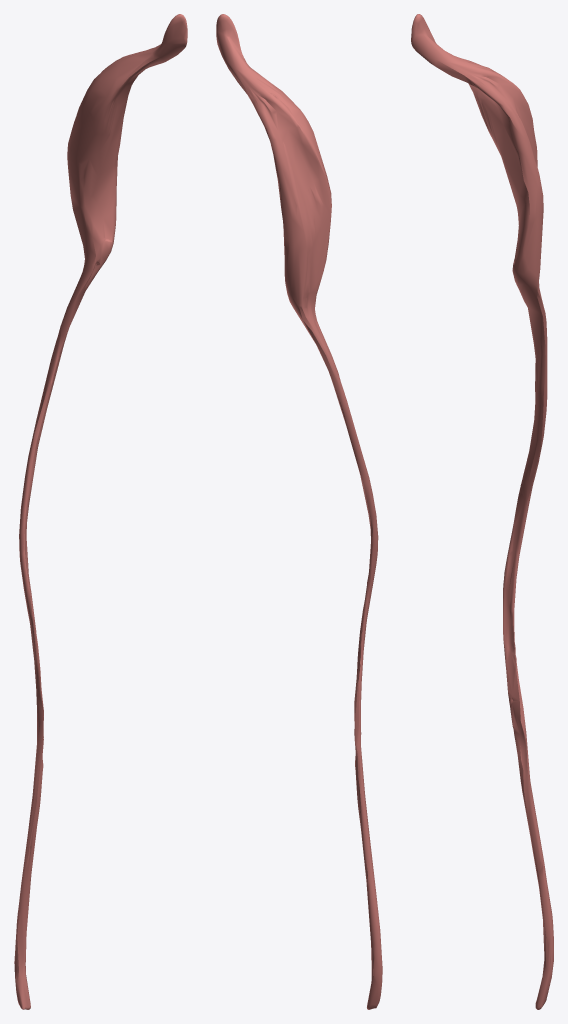
The model's file is fma22561_fj1429m.glb.
The picture shows the model from 3 angles, left to right: view 1: azimuth 30°, elevation 25°; view 2: azimuth 210°, elevation 25°; view 3: azimuth 270°, elevation 25°; orthographic projection. The views are drawn at different scales.
Parts seen in each view (by area): view 1: FMA22561_FJ1429M; view 2: FMA22561_FJ1429M; view 3: FMA22561_FJ1429M.
Part boxes in pixels (left/top/right/bottom): FMA22561_FJ1429M: left=14, top=14, right=187, bottom=1009; FMA22561_FJ1429M: left=216, top=14, right=382, bottom=1009; FMA22561_FJ1429M: left=411, top=14, right=553, bottom=1009.
Size of the model in its own units: 0.0615 by 0.5091 by 0.0633.
